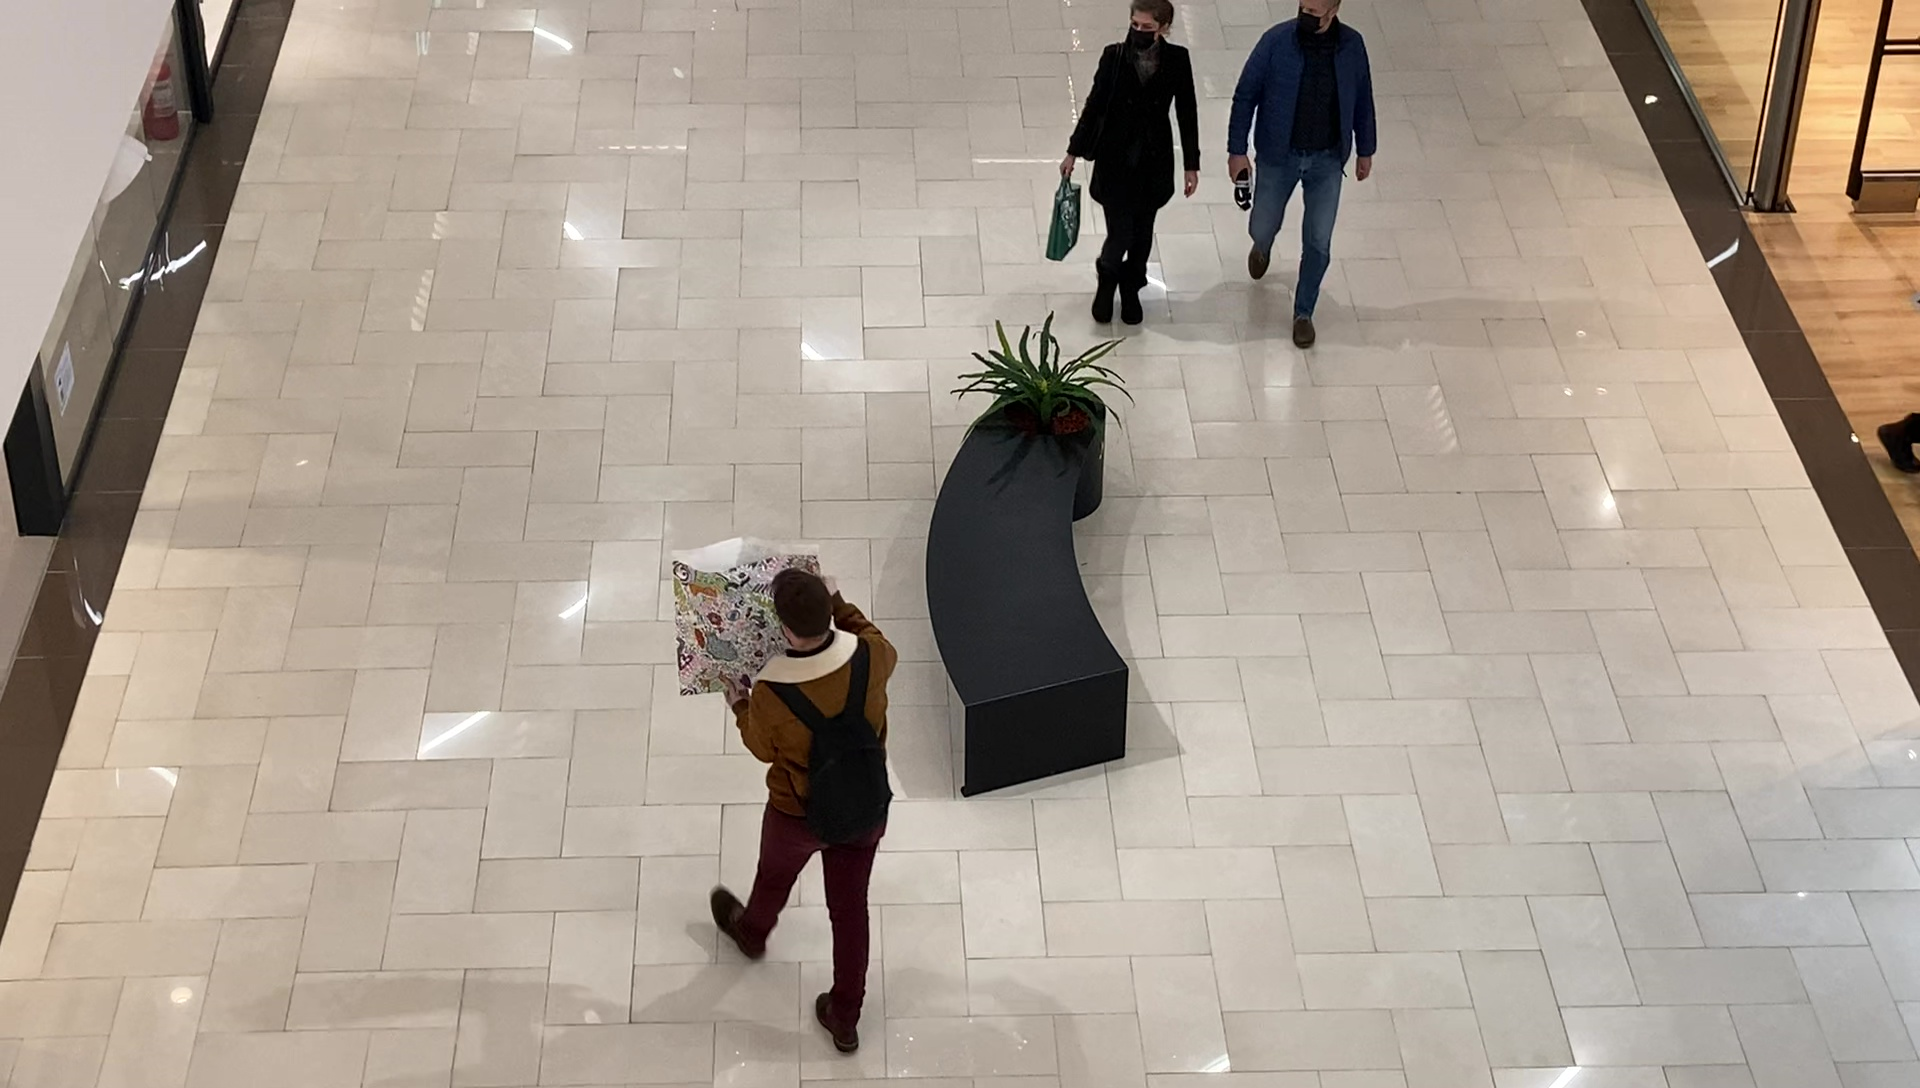person: (719, 574, 901, 1055), (1228, 3, 1379, 351), (1060, 1, 1202, 327)
